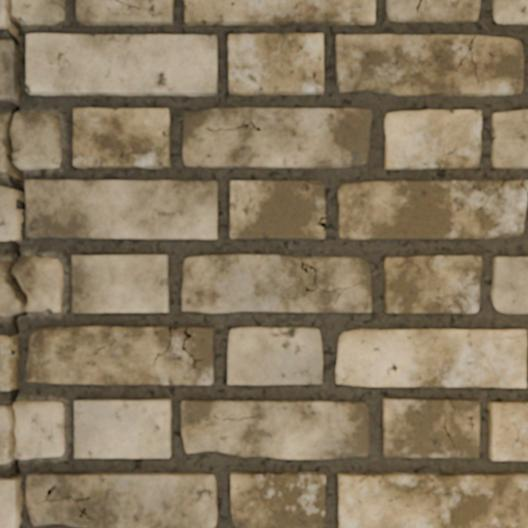brick: (26, 34, 216, 95), (336, 35, 523, 95), (25, 180, 217, 238), (183, 108, 371, 167), (336, 329, 526, 386), (182, 400, 368, 458), (182, 255, 371, 312), (338, 181, 526, 238), (26, 327, 213, 383), (26, 473, 216, 527), (338, 473, 527, 527), (228, 33, 323, 94), (73, 108, 169, 167), (385, 110, 481, 169), (75, 399, 170, 457), (383, 399, 479, 456), (72, 255, 168, 312), (384, 256, 481, 312), (231, 181, 324, 238), (231, 472, 325, 527), (228, 328, 321, 383), (185, 0, 374, 24), (77, 0, 172, 24), (489, 402, 527, 459), (492, 110, 527, 167), (386, 0, 480, 21), (492, 257, 527, 312), (0, 40, 16, 100), (0, 187, 17, 240), (0, 478, 18, 527), (493, 0, 527, 23), (0, 336, 11, 389)
broken_brick: (15, 400, 65, 459), (11, 111, 61, 170), (13, 255, 63, 312), (13, 0, 65, 25), (0, 259, 18, 316), (0, 404, 9, 464), (0, 144, 7, 174), (0, 0, 6, 29), (0, 113, 6, 137)
crack: (0, 0, 28, 525), (455, 35, 479, 85), (474, 180, 505, 217), (153, 326, 178, 364), (181, 326, 202, 369), (115, 0, 141, 10), (505, 332, 526, 339), (316, 216, 325, 231), (520, 180, 527, 197), (415, 0, 422, 13), (309, 180, 324, 185)
